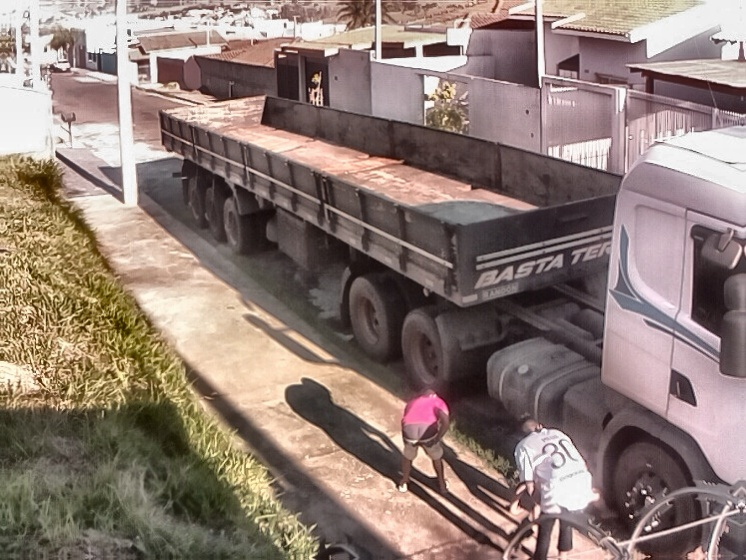person: (511, 409, 598, 560), (395, 385, 452, 500)
